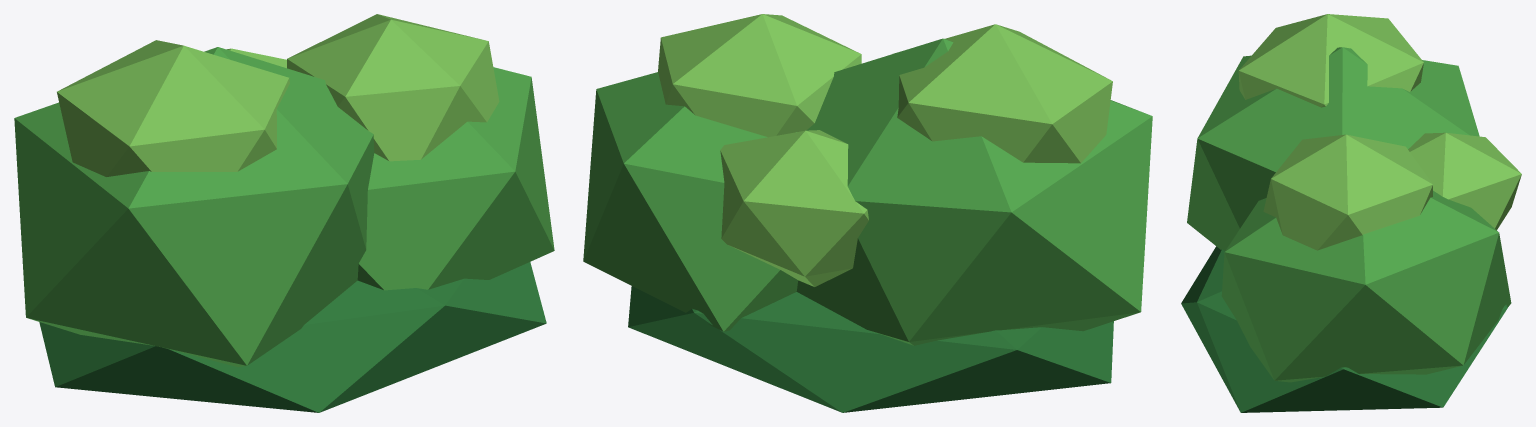
File: wood_bush_b.fbx
3 renders of one model, left to right at view 1: azimuth 30°, elevation 25°; view 2: azimuth 150°, elevation 25°; view 3: azimuth 270°, elevation 25°, orthographic. The views are drawn at different scales.
Parts seen in each view (by area): view 1: wood_bush_b__leaf, wood_bush_b__leaf_light, wood_bush_b__leaf_dark; view 2: wood_bush_b__leaf, wood_bush_b__leaf_light, wood_bush_b__leaf_dark; view 3: wood_bush_b__leaf, wood_bush_b__leaf_light, wood_bush_b__leaf_dark.
Part boxes in pixels (bbox=[...]): wood_bush_b__leaf: bbox=[14, 47, 554, 367]; wood_bush_b__leaf_light: bbox=[57, 14, 499, 176]; wood_bush_b__leaf_dark: bbox=[39, 262, 546, 412]; wood_bush_b__leaf: bbox=[583, 38, 1152, 345]; wood_bush_b__leaf_light: bbox=[658, 14, 1112, 286]; wood_bush_b__leaf_dark: bbox=[628, 286, 1113, 412]; wood_bush_b__leaf: bbox=[1187, 47, 1511, 382]; wood_bush_b__leaf_light: bbox=[1238, 14, 1521, 250]; wood_bush_b__leaf_dark: bbox=[1181, 246, 1507, 412].
Bounding box in the file's own units: 282 × 186 × 188.
